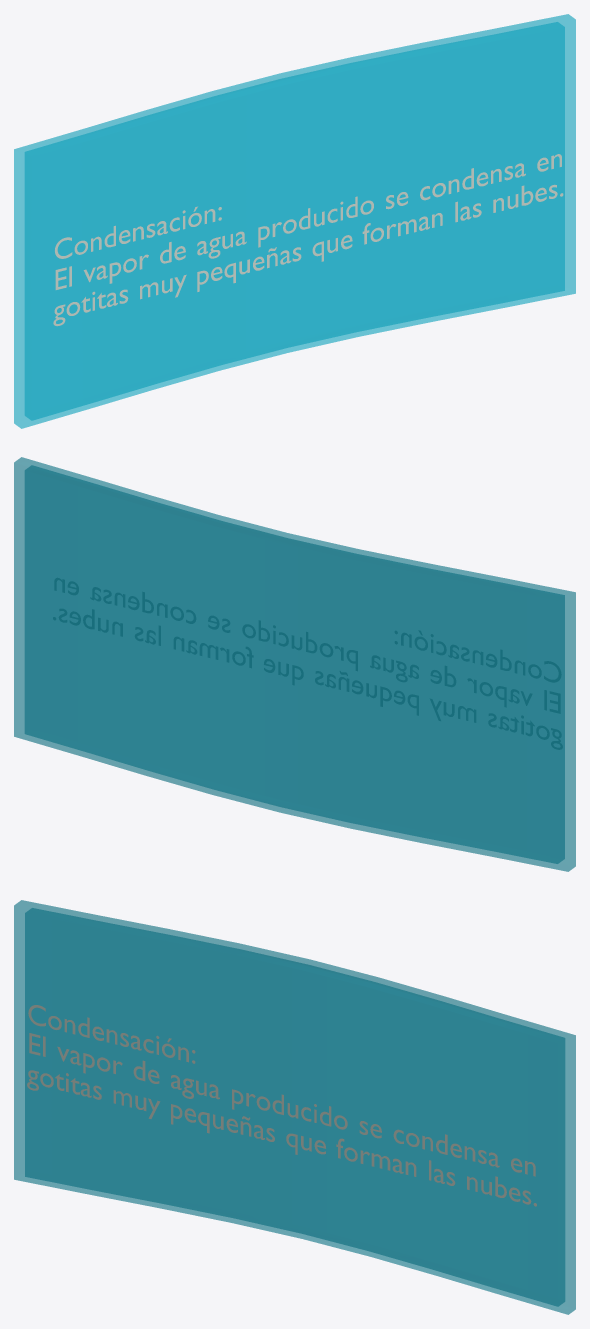
File: cond.glb
3 views of the same model, one above another, from view 1: azimuth 30°, elevation 25°; view 2: azimuth 150°, elevation 25°; view 3: azimuth 330°, elevation 25° (orthographic).
Parts seen in each view (by area): view 1: Cube, Condensacion; view 2: Cube, Condensacion; view 3: Cube, Condensacion.
Boxes of the visible parts, <box> form: Cube: <box>14,14,575,428</box>; Condensacion: <box>53,154,563,326</box>; Cube: <box>14,457,575,871</box>; Condensacion: <box>53,578,561,749</box>; Cube: <box>14,900,575,1314</box>; Condensacion: <box>27,1005,536,1206</box>.
Bounding box in the file's own units: 4.23 × 2 × 0.3736.
